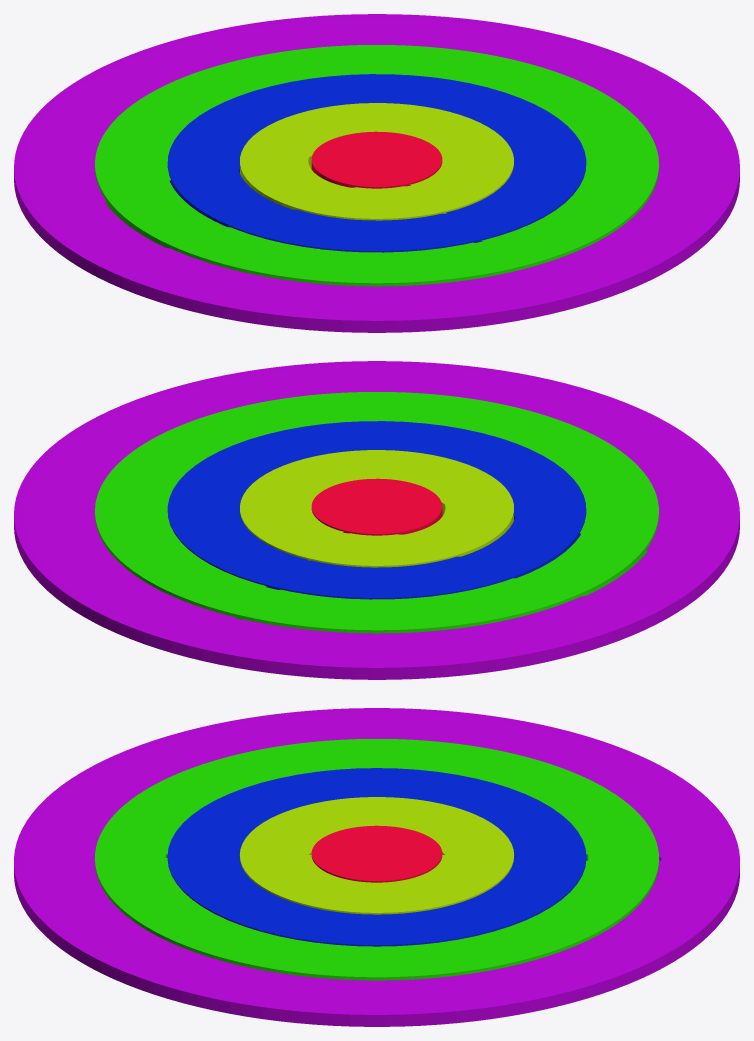
The model's file is Dart.fbx.
3 views of the same model, one above another, from view 1: azimuth 30°, elevation 25°; view 2: azimuth 150°, elevation 25°; view 3: azimuth 270°, elevation 25° (orthographic).
Parts seen in each view (by area): view 1: Cylinder.004, Cylinder.003, Cylinder.002, Cylinder.001, Cylinder; view 2: Cylinder.004, Cylinder.003, Cylinder.002, Cylinder.001, Cylinder; view 3: Cylinder.004, Cylinder.003, Cylinder.002, Cylinder.001, Cylinder.
Boxes of the visible parts, <box> form: Cylinder.004: <box>14,14,739,332</box>; Cylinder.003: <box>95,45,658,286</box>; Cylinder.002: <box>167,74,586,252</box>; Cylinder.001: <box>240,103,513,220</box>; Cylinder: <box>311,131,442,188</box>; Cylinder.004: <box>14,361,739,679</box>; Cylinder.003: <box>95,392,658,633</box>; Cylinder.002: <box>167,421,586,599</box>; Cylinder.001: <box>240,450,513,567</box>; Cylinder: <box>311,478,442,535</box>; Cylinder.004: <box>14,708,739,1026</box>; Cylinder.003: <box>95,739,658,980</box>; Cylinder.002: <box>167,768,586,946</box>; Cylinder.001: <box>239,797,514,914</box>; Cylinder: <box>311,825,442,882</box>.
Size of the model in its own units: 11.09 by 0.5146 by 11.09.
